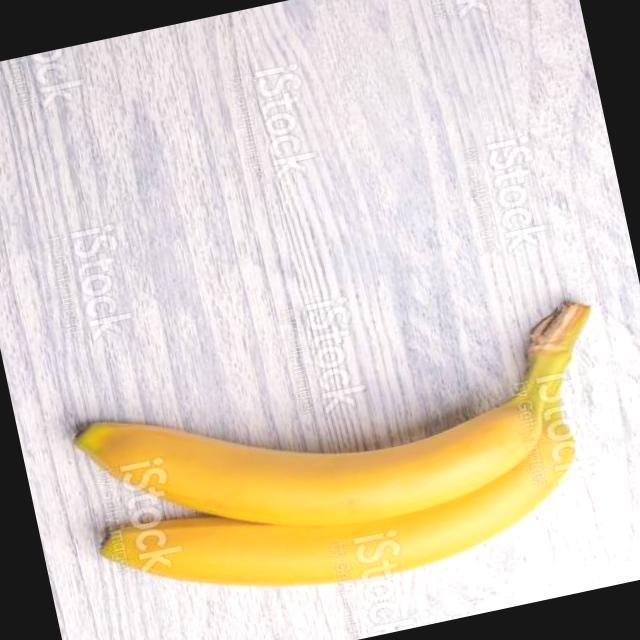Platano: (56, 288, 640, 639)
